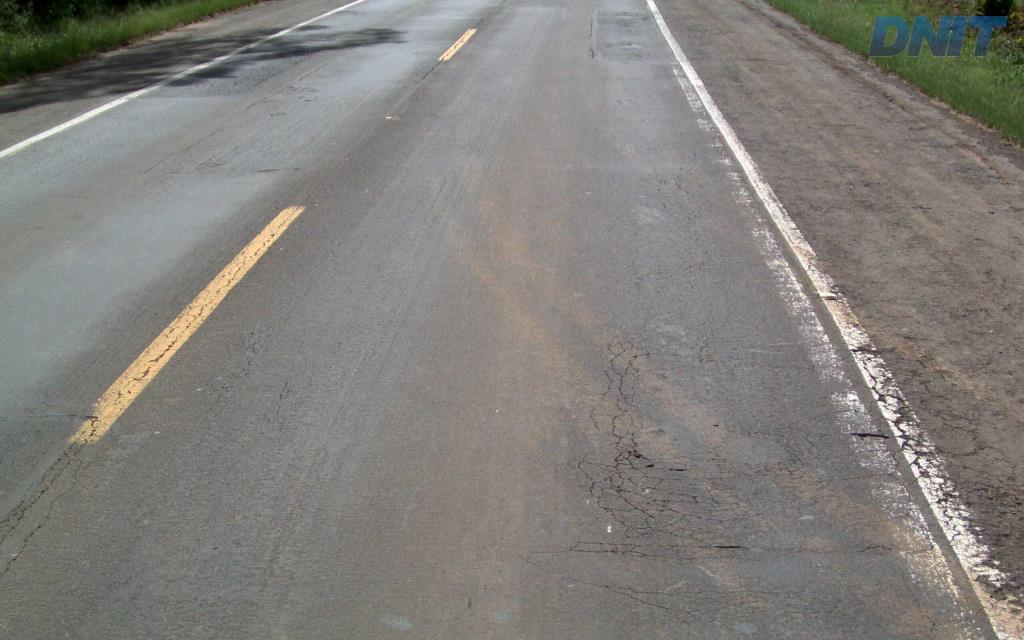crack: (575, 414, 697, 565), (772, 422, 813, 468), (683, 582, 737, 611), (690, 537, 749, 559), (841, 540, 892, 556)
